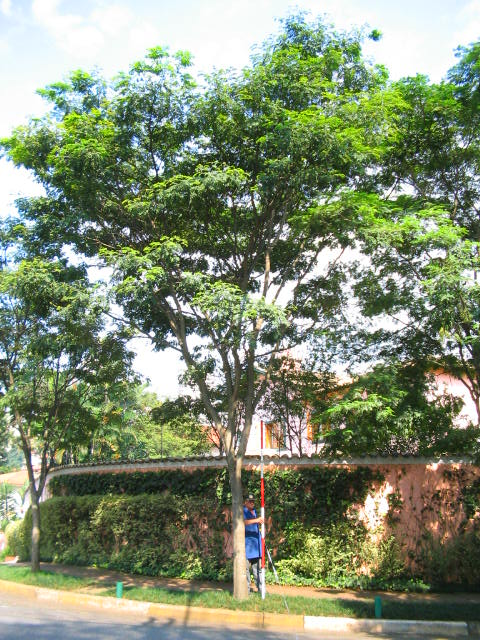crown: (5, 8, 465, 369), (3, 263, 150, 477)
stem: (214, 464, 256, 601), (22, 501, 46, 572)
stick: (254, 420, 270, 599)
tree: (3, 7, 466, 601), (1, 259, 151, 572)
